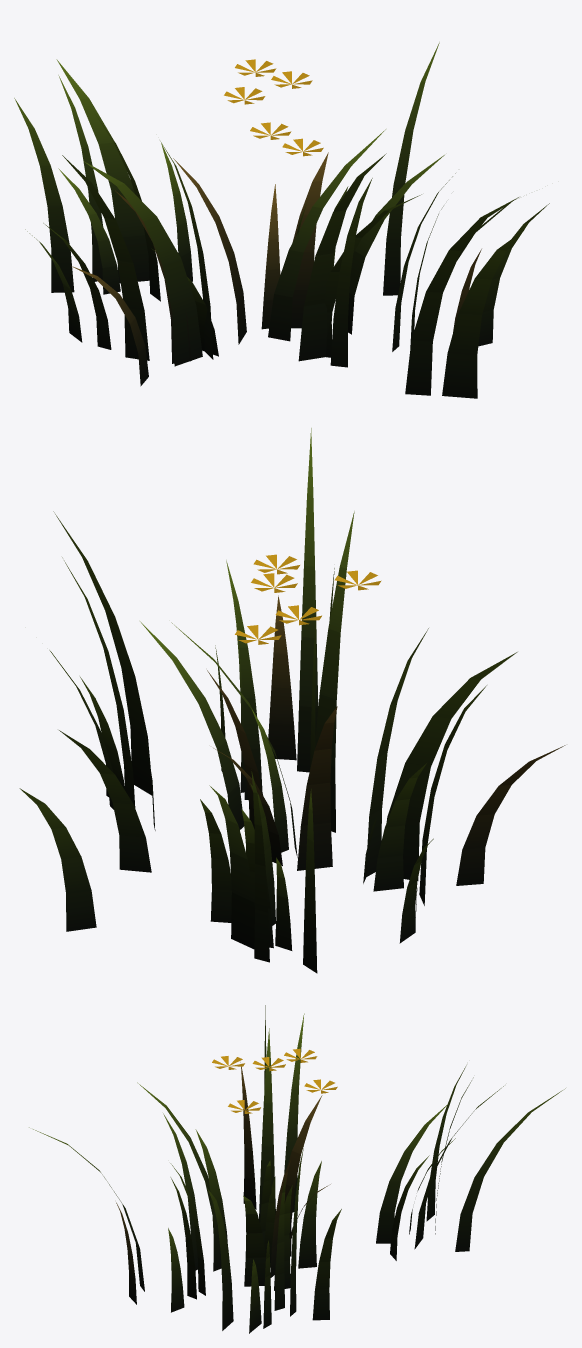
The model's file is SM_V2_Flowers_Yellow.fbx.
3 renders of one model, top to bottom at view 1: azimuth 30°, elevation 25°; view 2: azimuth 150°, elevation 25°; view 3: azimuth 270°, elevation 25°, orthographic. The views are drawn at different scales.
Visible parts, largest first — view 1: SM_V2_Flowers_Yellow; view 2: SM_V2_Flowers_Yellow; view 3: SM_V2_Flowers_Yellow.
Boxes of the visible parts, x1,y1,x2,y2 form: SM_V2_Flowers_Yellow: (14,42,549,398); SM_V2_Flowers_Yellow: (19,428,565,973); SM_V2_Flowers_Yellow: (29,1005,565,1333).
Bounding box in the file's own units: 0.9223 × 0.4721 × 1.15.
